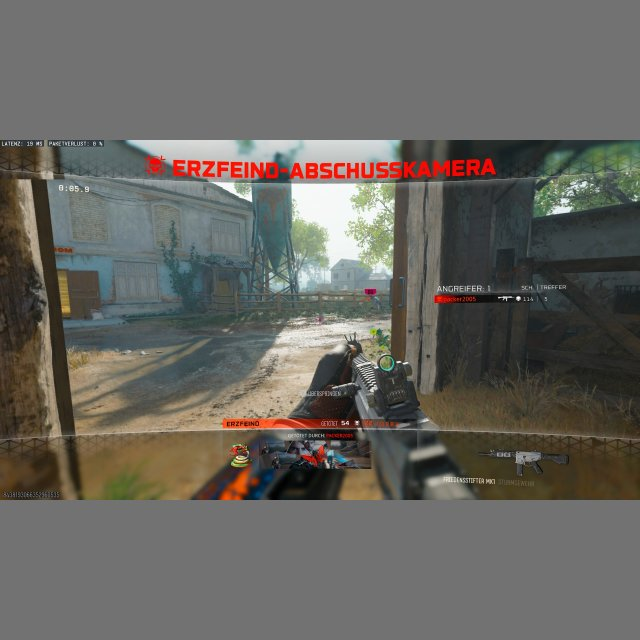player: (371, 296, 381, 310)
